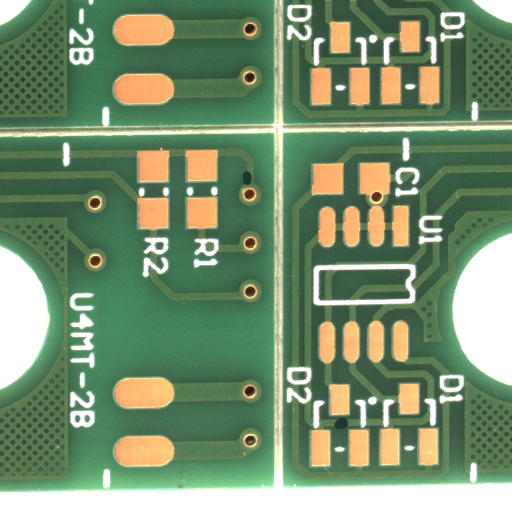Mouse_bite: (340, 422, 353, 435), (246, 178, 254, 193)
